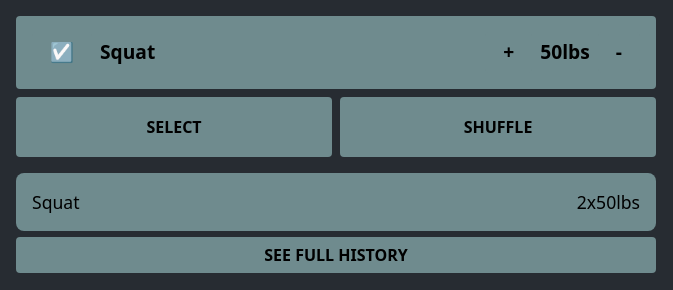
Test: Should select a random Exercise
Expected: the 1st text "Squat" is shown, [100,38,155,67]
Click the button with test id "shuffle".
click(498, 127)  # box [340,97,656,157]
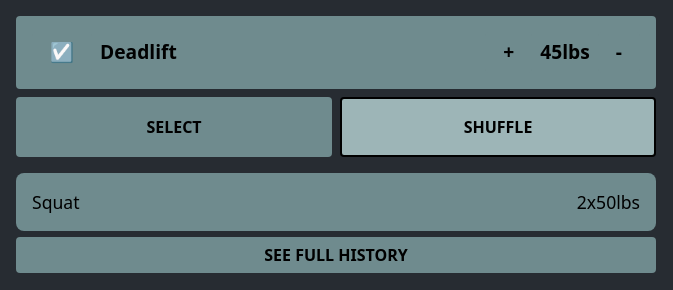
Now the element with test id "exercise" no longer shows "Squat"
